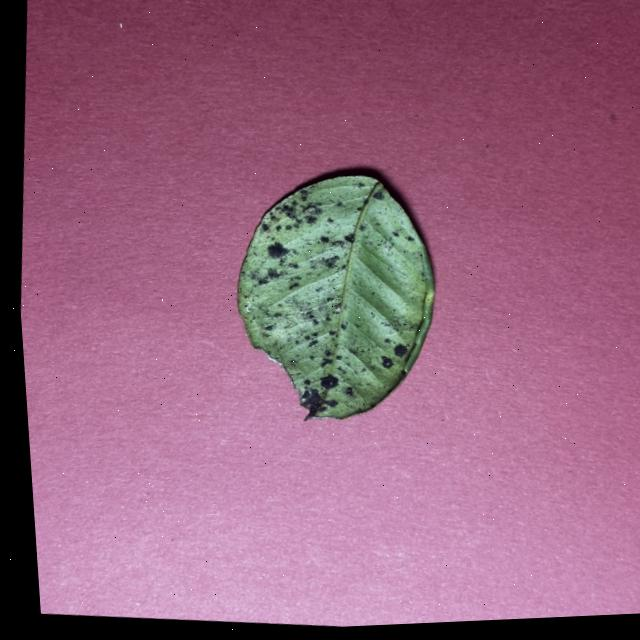sooty_mold: (238, 175, 433, 419)
